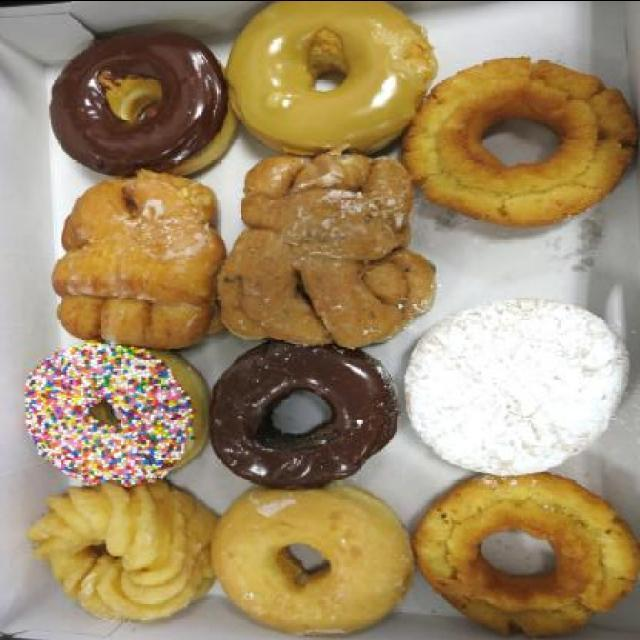Bagel: (400, 56, 636, 232), (412, 479, 640, 632), (198, 488, 414, 634)
